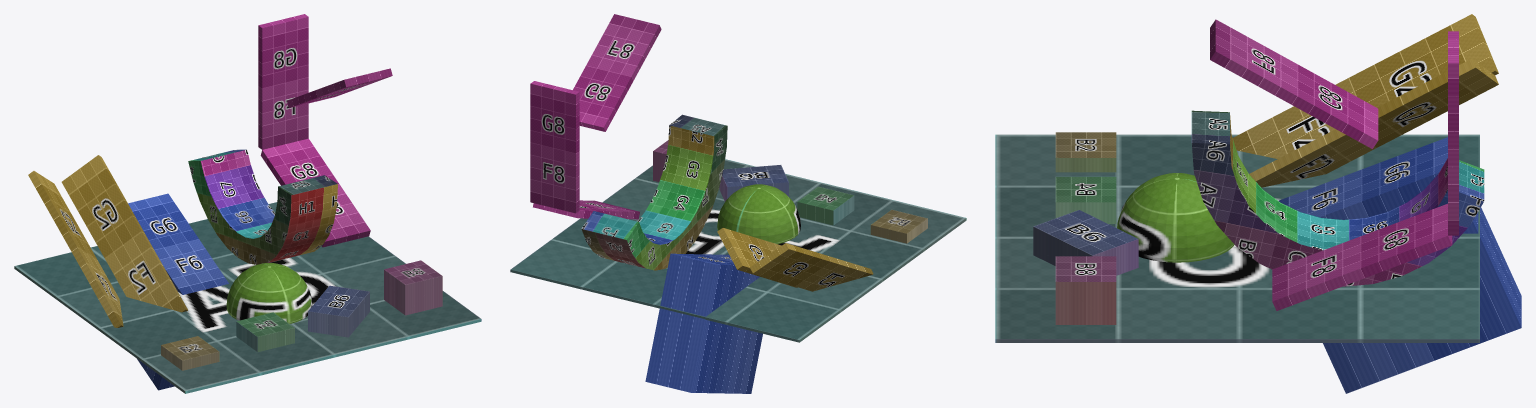
Rendered from basic-colliders.glb.
The picture shows the model from 3 angles, left to right: view 1: azimuth 30°, elevation 25°; view 2: azimuth 150°, elevation 25°; view 3: azimuth 270°, elevation 25°; orthographic projection. The views are drawn at different scales.
Visible parts, largest first — view 1: ground.001, arc.001, friction_2.001, friction_8.002, friction_6, Sphere, friction_8, friction_2, bounce_8, bounce_6, bounce_4, bounce_2 (+1 smaller); view 2: ground.001, friction_6, arc.001, friction_8.002, friction_8.001, Sphere, friction_2, bounce_4, friction_2.001, bounce_6, bounce_2, friction_8 (+1 smaller); view 3: ground.001, arc.001, friction_6, friction_2, friction_8, friction_8.001, friction_2.001, Sphere, bounce_8, bounce_6, bounce_4, bounce_2 (+1 smaller).
Part boxes in pixels (box(x1,y1,x2,y2)): ground.001: box(14, 202, 481, 393); arc.001: box(188, 149, 337, 264); friction_2.001: box(61, 155, 187, 312); friction_8.002: box(258, 14, 308, 149); friction_6: box(128, 193, 228, 390); Sphere: box(226, 263, 312, 323); friction_8: box(260, 138, 370, 247); friction_2: box(28, 171, 123, 327); bounce_8: box(384, 260, 442, 315); bounce_6: box(308, 285, 369, 337); bounce_4: box(236, 312, 294, 352); bounce_2: box(161, 336, 219, 370); ground.001: box(510, 159, 966, 342); friction_6: box(645, 253, 762, 393); arc.001: box(581, 114, 727, 270); friction_8.002: box(530, 81, 579, 213); friction_8.001: box(573, 14, 661, 131); Sphere: box(717, 184, 800, 244); friction_2: box(750, 243, 873, 291); bounce_4: box(797, 186, 854, 225); friction_2.001: box(717, 228, 797, 287); bounce_6: box(719, 165, 788, 201); bounce_2: box(870, 209, 927, 243); friction_8: box(533, 200, 639, 219); ground.001: box(995, 134, 1479, 342); arc.001: box(1191, 110, 1484, 286); friction_6: box(1278, 137, 1521, 393); friction_2: box(1232, 14, 1498, 158); friction_8: box(1272, 203, 1452, 310); friction_8.001: box(1210, 19, 1378, 148); friction_2.001: box(1249, 58, 1498, 187); Sphere: box(1117, 173, 1234, 262); bounce_8: box(1055, 256, 1116, 324); bounce_6: box(1033, 210, 1138, 275); bounce_4: box(1055, 176, 1116, 223); bounce_2: box(1055, 132, 1116, 172).
Size of the model in its own units: 15.93 by 15.93 by 17.3.
Materials: 5 (5 with a texture image).
